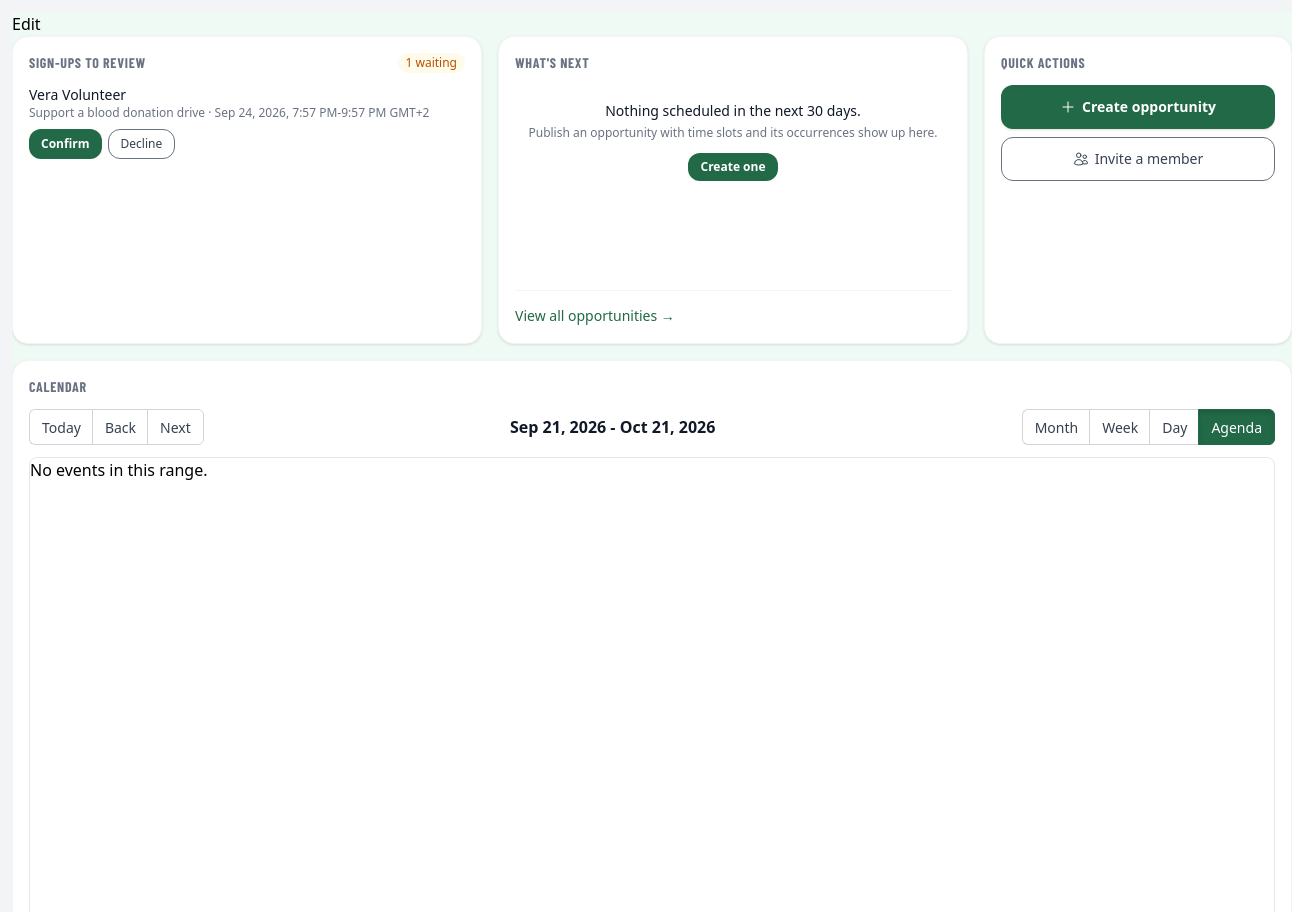
it: OrgDashboardPage widgets for a fresh organization › confirms a sign-up from the board and marks the row decided
Click the button with test id "todo-widget-confirm-e-1". click: [65, 144]
box: [29,129,102,159]
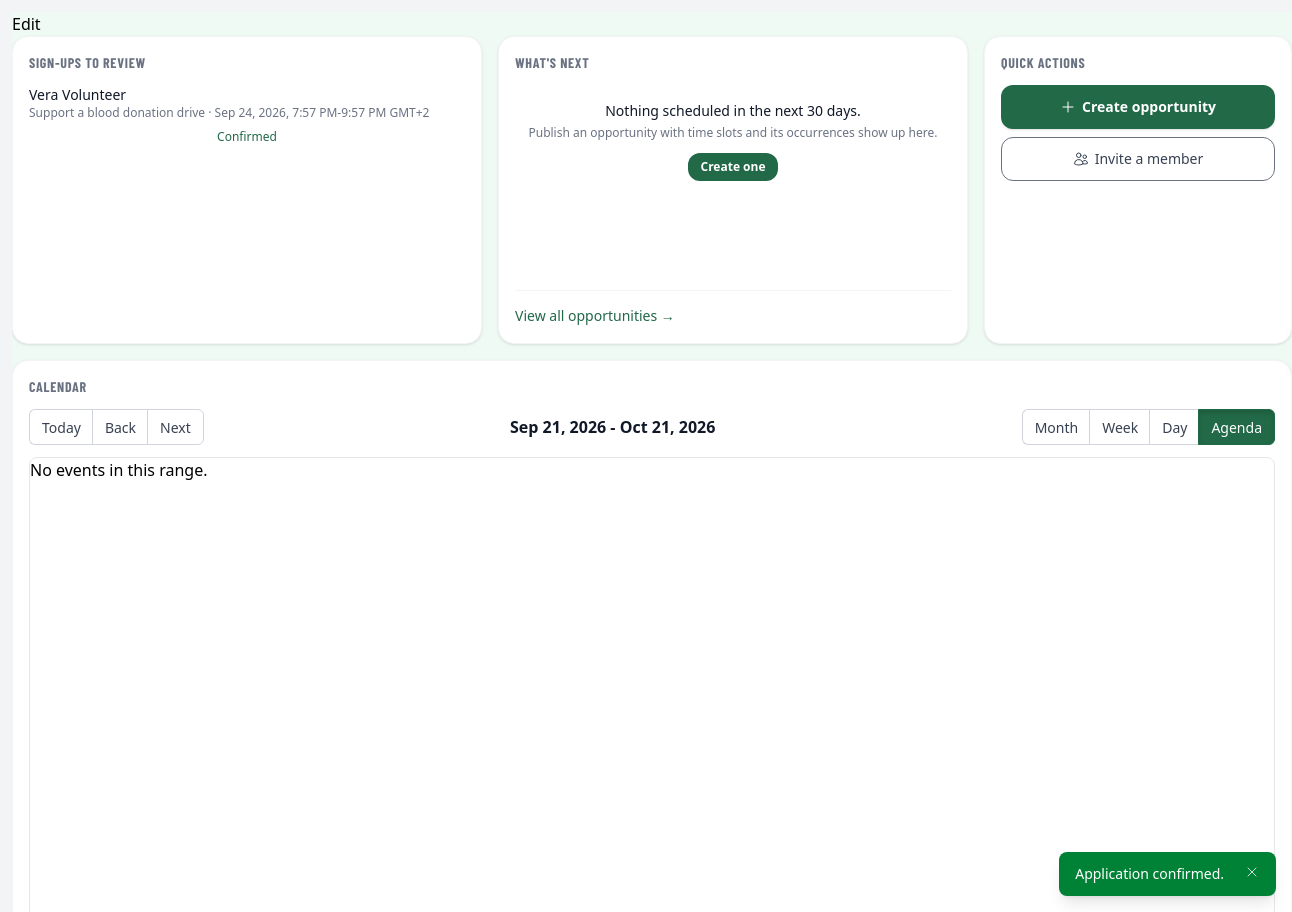
Result: the text with test id "todo-widget-confirmed-e-1" reads "Confirmed" at [217,128,277,145]
